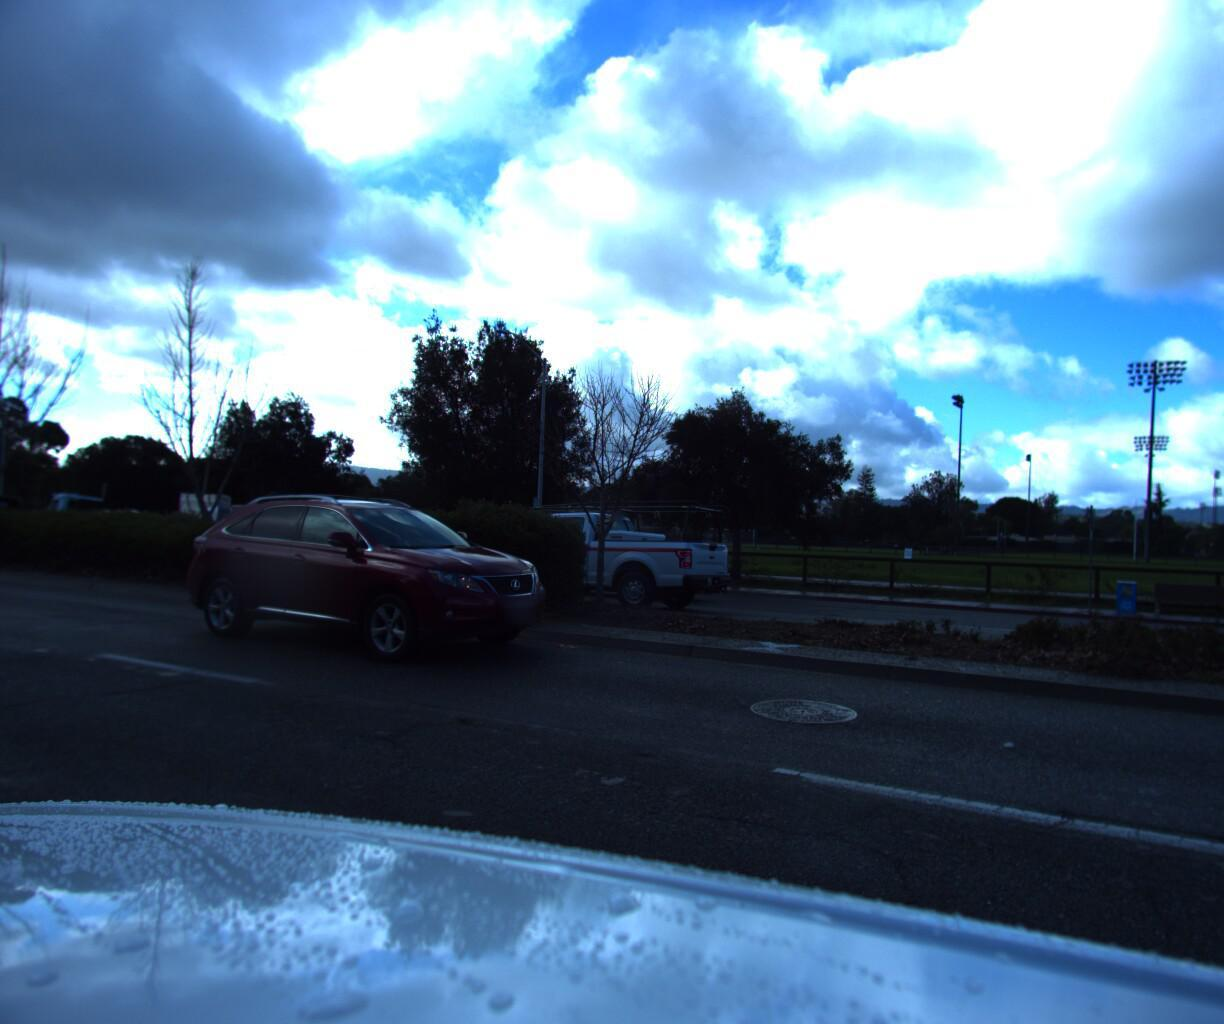car: (170, 486, 582, 674), (451, 504, 755, 619)
truck: (35, 479, 269, 560), (0, 487, 21, 549)
